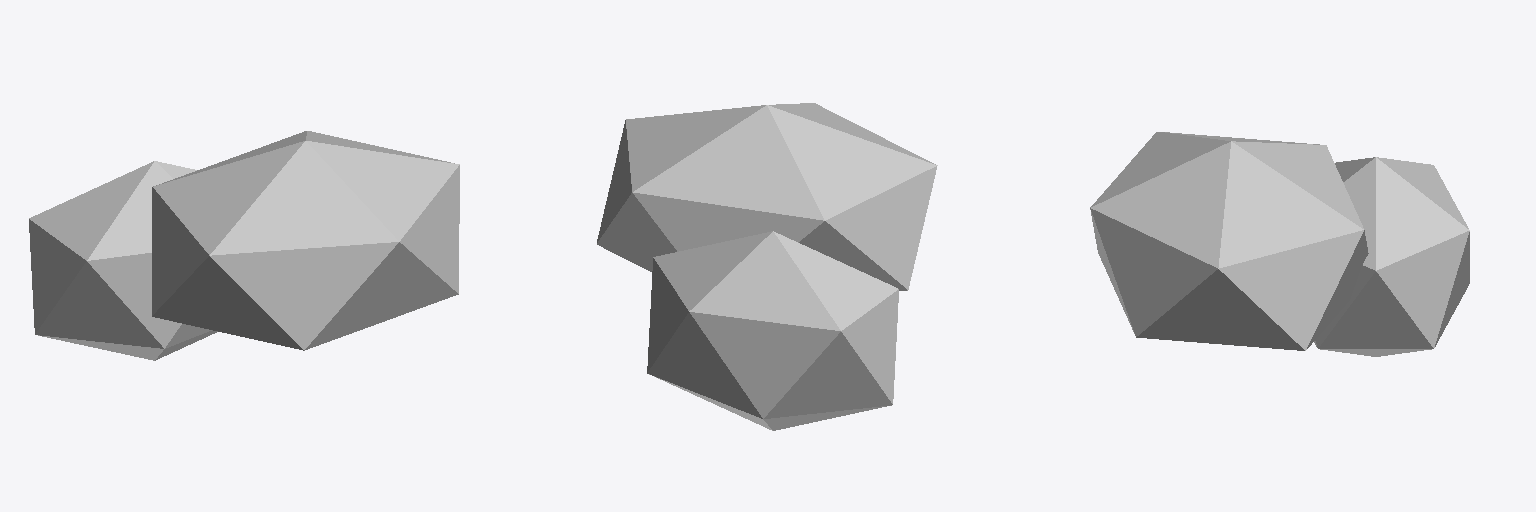
File: tree_00_top.obj
The picture shows the model from 3 angles: view 1: azimuth 30°, elevation 25°; view 2: azimuth 150°, elevation 25°; view 3: azimuth 270°, elevation 25°; orthographic projection.
Parts seen in each view (by area): view 1: Icosphere.001, Icosphere; view 2: Icosphere.001, Icosphere; view 3: Icosphere.001, Icosphere.
Part boxes in pixels (left/top/right/bottom): Icosphere.001: left=152, top=131, right=459, bottom=350; Icosphere: left=29, top=161, right=217, bottom=360; Icosphere.001: left=597, top=103, right=937, bottom=290; Icosphere: left=647, top=231, right=898, bottom=430; Icosphere.001: left=1090, top=132, right=1368, bottom=350; Icosphere: left=1314, top=157, right=1469, bottom=356.
Size of the model in its own units: 8.59 by 6.02 by 8.15.